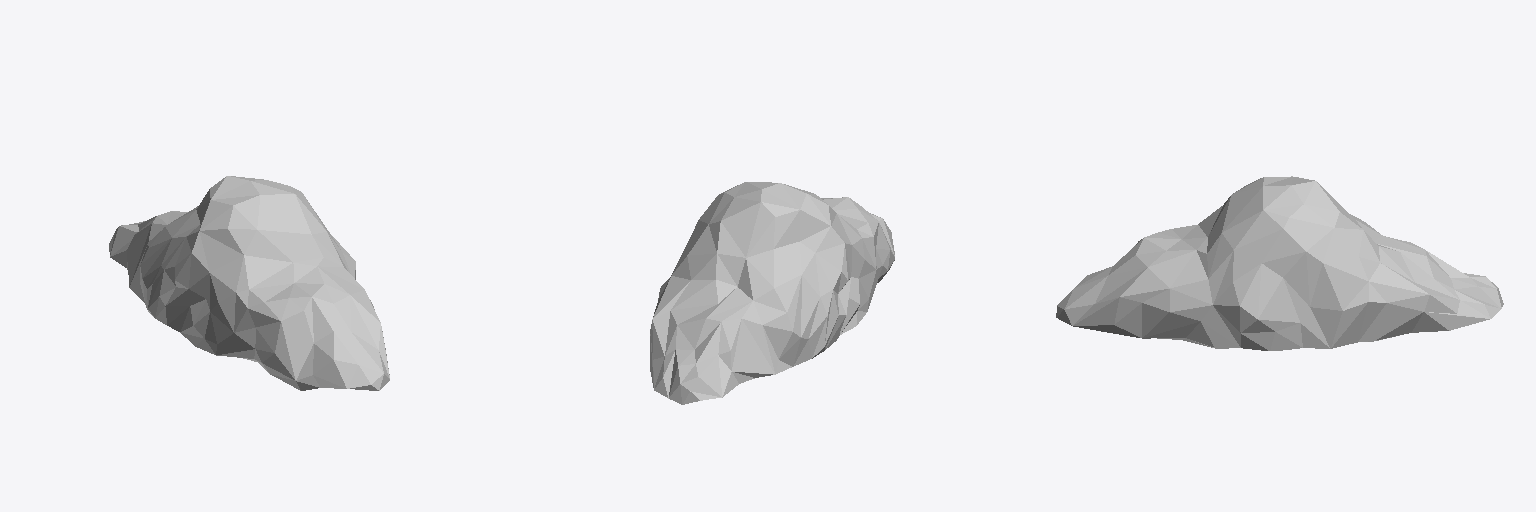
The model's file is cloud3.obj.
The picture shows the model from 3 angles: view 1: azimuth 30°, elevation 25°; view 2: azimuth 150°, elevation 25°; view 3: azimuth 270°, elevation 25°; orthographic projection.
Visible parts, largest first — view 1: Clouds; view 2: Clouds; view 3: Clouds.
Part boxes in pixels (x1,y1,x2,y2): Clouds: (109, 176, 389, 390); Clouds: (650, 182, 894, 404); Clouds: (1056, 176, 1503, 350).
Size of the model in its own units: 2.16 by 1.73 by 4.95.